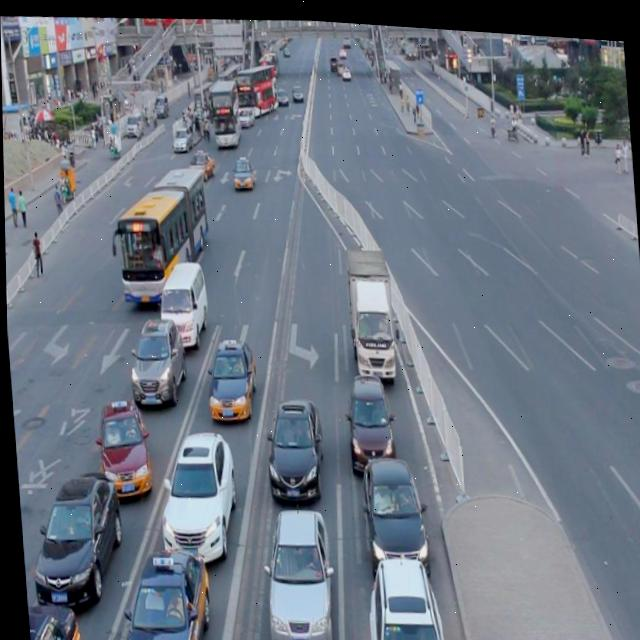bus: (344, 239, 397, 373)
car: (24, 463, 125, 610), (152, 420, 239, 565), (257, 496, 336, 640), (109, 536, 211, 640), (356, 444, 428, 567), (359, 540, 446, 640), (260, 387, 324, 500), (93, 393, 152, 499), (124, 310, 188, 406), (343, 363, 396, 473), (202, 332, 258, 420), (24, 595, 79, 640), (231, 151, 254, 187)
truck: (154, 252, 210, 349)
van: (113, 160, 212, 304)
